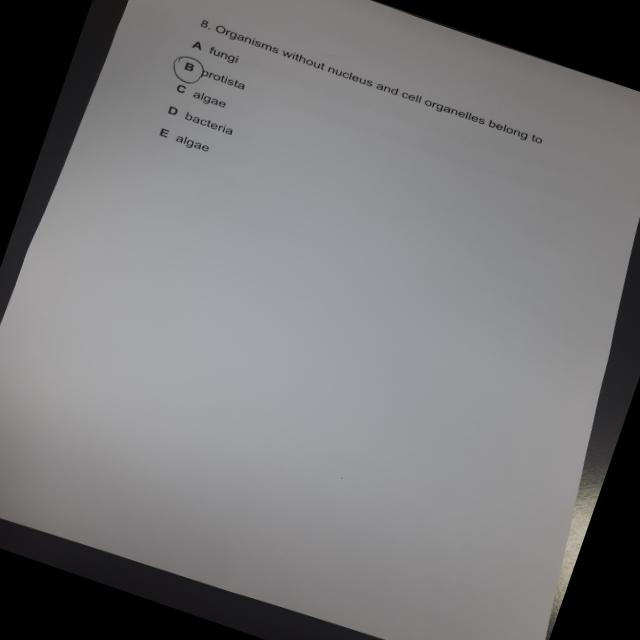B: (166, 52, 212, 91)
